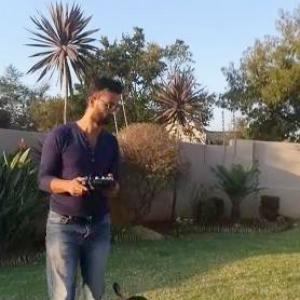follow: (36, 67, 127, 299)
